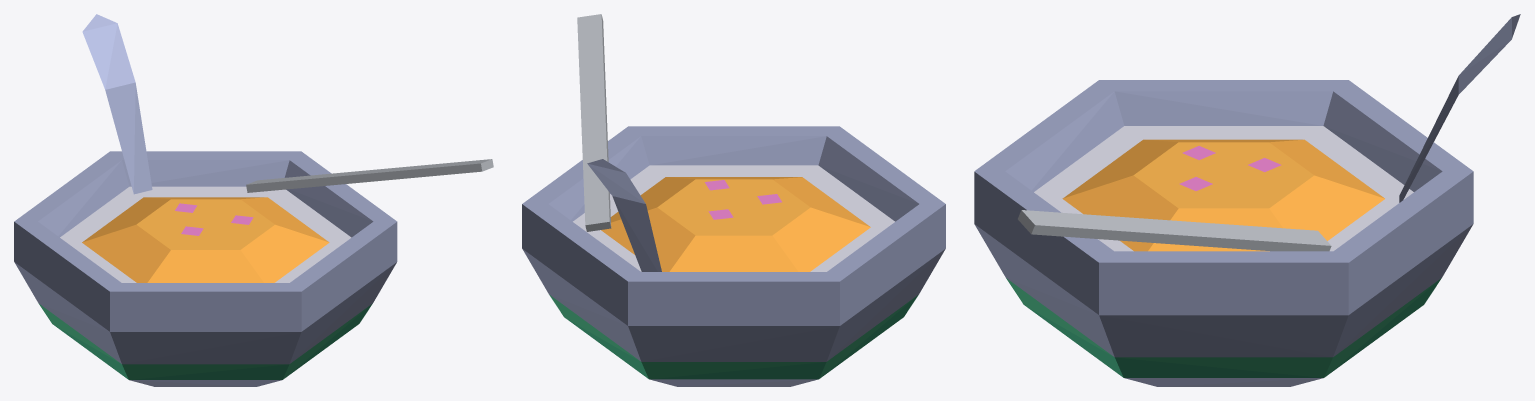
Rendered from m-cereal.glb.
3 views of the same model, side by side, from view 1: azimuth 30°, elevation 25°; view 2: azimuth 150°, elevation 25°; view 3: azimuth 270°, elevation 25° (orthographic). The views are drawn at different scales.
Visible parts, largest first — view 1: m_cereal; view 2: m_cereal; view 3: m_cereal.
Boxes of the visible parts, <box> form: m_cereal: <box>14,14,493,386</box>; m_cereal: <box>522,14,945,386</box>; m_cereal: <box>974,14,1520,386</box>.
Bounding box in the file's own units: 0.1478 × 0.0991 × 0.15.
